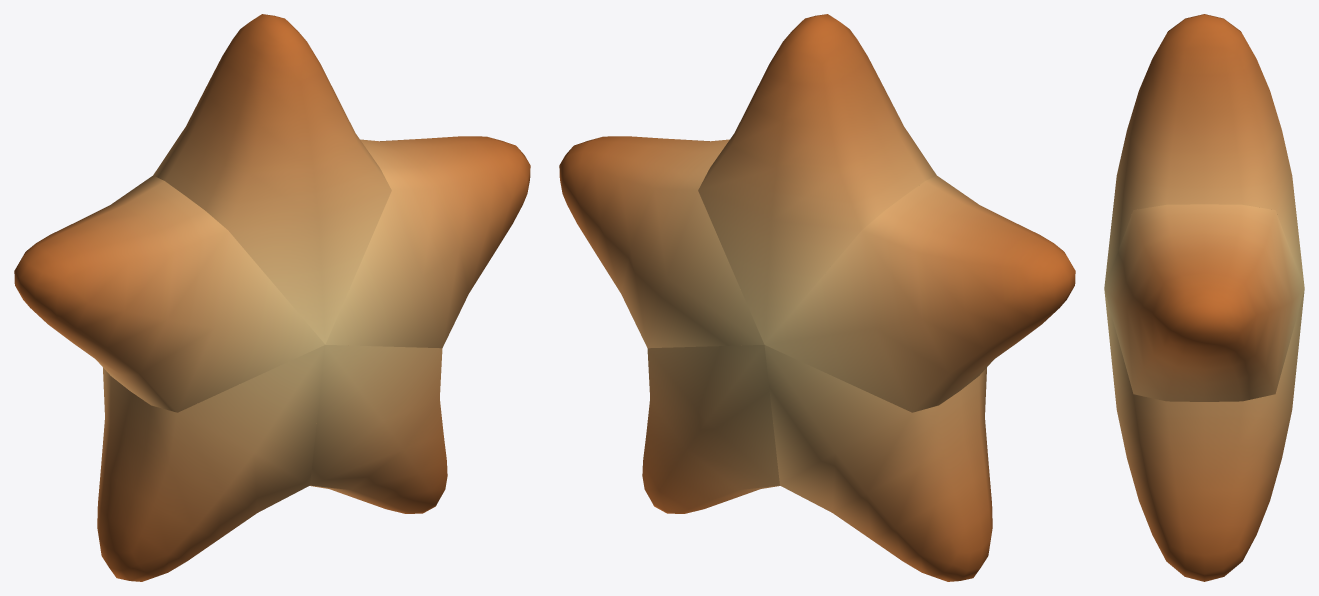
Rendered from SM_Star.fbx.
The picture shows the model from 3 angles, left to right: view 1: azimuth 30°, elevation 25°; view 2: azimuth 150°, elevation 25°; view 3: azimuth 270°, elevation 25°; orthographic projection. The views are drawn at different scales.
Visible parts, largest first — view 1: SM_Star; view 2: SM_Star; view 3: SM_Star.
Boxes of the visible parts, left/top/right/bottom form: SM_Star: left=14, top=14, right=530, bottom=581; SM_Star: left=559, top=14, right=1075, bottom=581; SM_Star: left=1104, top=14, right=1304, bottom=581.
Bounding box in the file's own units: 100 × 100 × 36.41.
